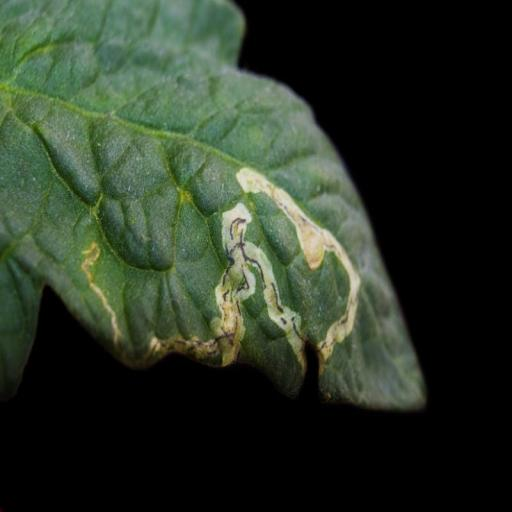disease_tomato: (0, 0, 428, 413)
